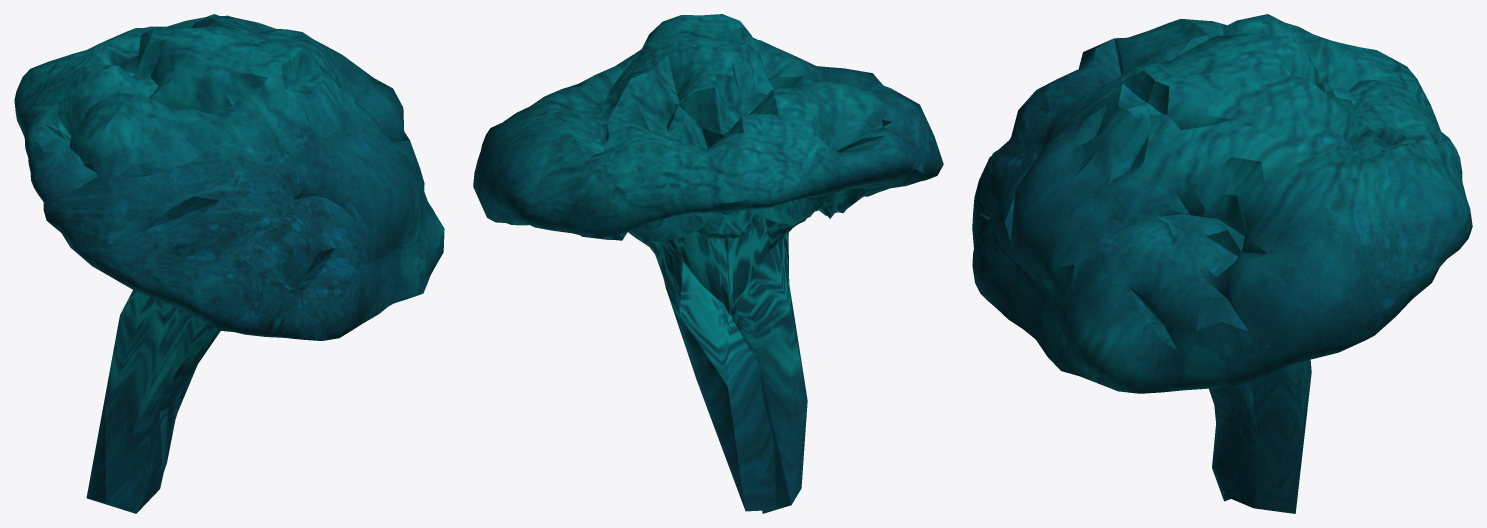
File: magical_mushroom_blue.glb
3 renders of one model, left to right at view 1: azimuth 30°, elevation 25°; view 2: azimuth 150°, elevation 25°; view 3: azimuth 270°, elevation 25°, orthographic. The views are drawn at different scales.
Parts seen in each view (by area): view 1: Object_2; view 2: Object_2; view 3: Object_2.
Boxes of the visible parts, x1,y1,x2,y2 form: Object_2: (14, 14, 444, 513); Object_2: (473, 14, 943, 513); Object_2: (972, 14, 1472, 513).
Size of the model in its own units: 199 by 216 by 195.
1 material, 1 textured.
